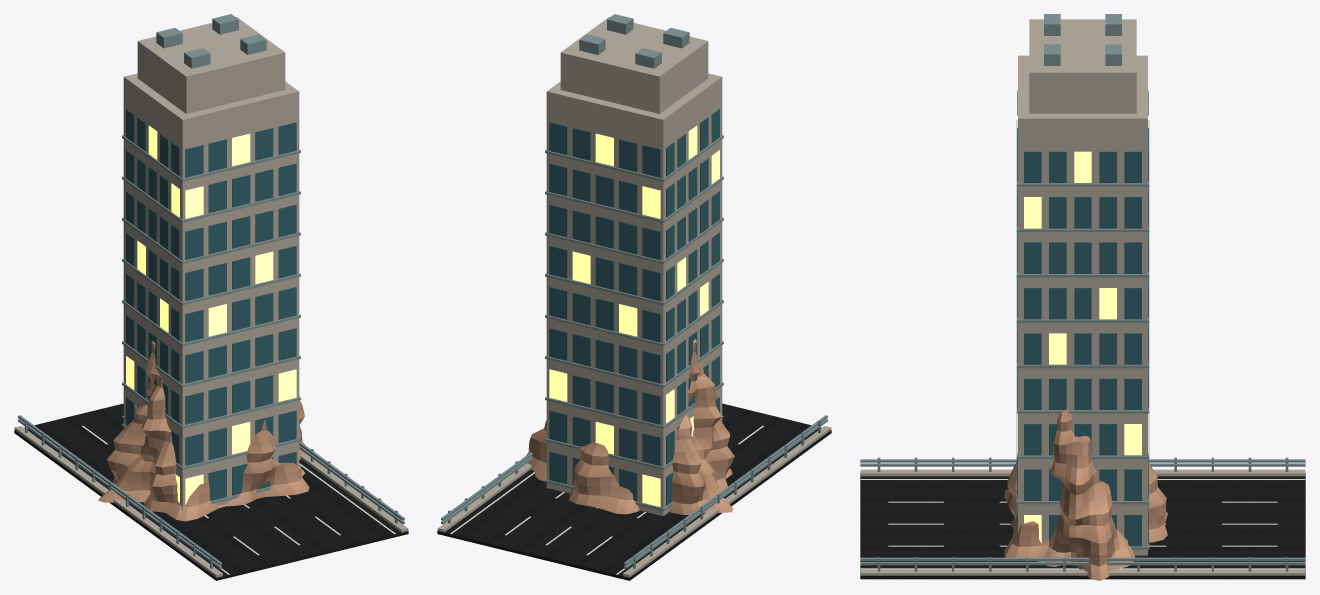
File: coast.glb
The picture shows the model from 3 angles, left to right: view 1: azimuth 30°, elevation 25°; view 2: azimuth 150°, elevation 25°; view 3: azimuth 270°, elevation 25°; orthographic projection. The views are drawn at different scales.
Parts seen in each view (by area): view 1: QR_TowerCore.001, QR_Road24m.001, QR_ErodedCliff.001, QR_Setback.001, QR_Curb.002, QR_Curb.003, QR_GuardBeam.005, QR_GuardBeam.004, QR_FacadeBelt.013, QR_FacadeBelt.016, QR_FacadeBelt.015, QR_FacadeBelt.014 (+44 smaller); view 2: QR_TowerCore.001, QR_Road24m.001, QR_ErodedCliff.001, QR_Setback.001, QR_Curb.002, QR_GuardBeam.005, QR_Curb.003, QR_GuardBeam.004, QR_FacadeBelt.013, QR_FacadeBelt.016, QR_FacadeBelt.015, QR_FacadeBelt.014 (+44 smaller); view 3: QR_TowerCore.001, QR_Road24m.001, QR_ErodedCliff.001, QR_Setback.001, QR_Curb.003, QR_Curb.002, QR_GuardBeam.007, QR_GuardBeam.006, QR_GuardBeam.005, QR_GuardBeam.004, QR_FacadeBelt.017, QR_EdgePaint.003 (+40 smaller).
Boxes of the visible parts, left/top/right/bottom form: QR_TowerCore.001: left=123, top=73, right=299, bottom=507; QR_Road24m.001: left=14, top=403, right=408, bottom=580; QR_ErodedCliff.001: left=98, top=341, right=309, bottom=521; QR_Setback.001: left=137, top=17, right=285, bottom=113; QR_Curb.002: left=14, top=426, right=222, bottom=577; QR_Curb.003: left=300, top=453, right=408, bottom=532; QR_GuardBeam.005: left=18, top=415, right=221, bottom=565; QR_GuardBeam.004: left=18, top=419, right=221, bottom=568; QR_FacadeBelt.013: left=122, top=300, right=300, bottom=346; QR_FacadeBelt.016: left=122, top=176, right=300, bottom=222; QR_FacadeBelt.015: left=122, top=217, right=300, bottom=264; QR_FacadeBelt.014: left=122, top=259, right=300, bottom=305; QR_TowerCore.001: left=546, top=73, right=722, bottom=516; QR_Road24m.001: left=437, top=403, right=831, bottom=580; QR_ErodedCliff.001: left=525, top=339, right=734, bottom=514; QR_Setback.001: left=560, top=17, right=708, bottom=113; QR_Curb.002: left=623, top=426, right=831, bottom=577; QR_GuardBeam.005: left=624, top=415, right=827, bottom=565; QR_Curb.003: left=437, top=463, right=531, bottom=532; QR_GuardBeam.004: left=624, top=419, right=827, bottom=568; QR_FacadeBelt.013: left=545, top=300, right=723, bottom=346; QR_FacadeBelt.016: left=545, top=176, right=723, bottom=222; QR_FacadeBelt.015: left=545, top=217, right=723, bottom=264; QR_FacadeBelt.014: left=545, top=259, right=723, bottom=305; QR_TowerCore.001: left=1018, top=55, right=1147, bottom=555; QR_Road24m.001: left=860, top=473, right=1305, bottom=579; QR_ErodedCliff.001: left=1004, top=408, right=1167, bottom=580; QR_Setback.001: left=1029, top=19, right=1136, bottom=113; QR_Curb.003: left=860, top=569, right=1305, bottom=575; QR_Curb.002: left=860, top=469, right=1305, bottom=476; QR_GuardBeam.007: left=860, top=557, right=1305, bottom=561; QR_GuardBeam.006: left=860, top=562, right=1305, bottom=565; QR_GuardBeam.005: left=860, top=459, right=1305, bottom=462; QR_GuardBeam.004: left=860, top=463, right=1305, bottom=466; QR_FacadeBelt.017: left=1016, top=120, right=1149, bottom=186; QR_EdgePaint.003: left=860, top=568, right=1305, bottom=569.
Size of the model in its own units: 14.48 by 29.35 by 24.
Materials: 9 (1 with a texture image).
